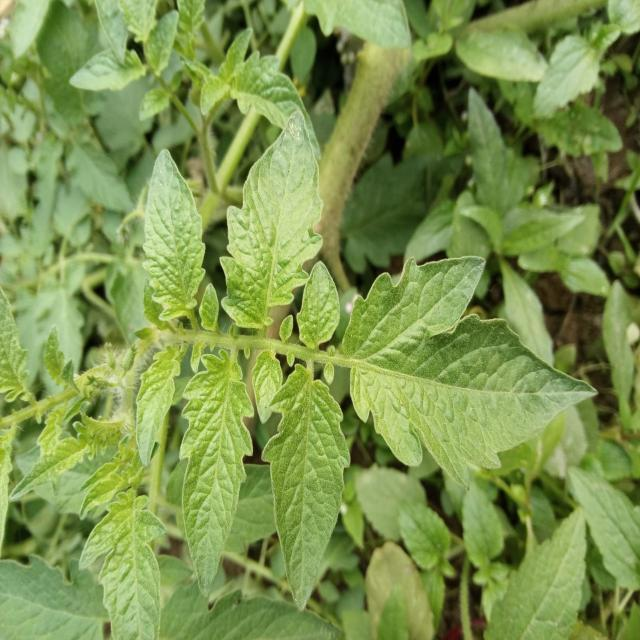Healthy: (299, 217, 593, 516), (238, 362, 364, 613), (212, 104, 339, 336), (172, 349, 257, 596), (80, 489, 165, 639), (143, 149, 205, 320), (124, 341, 185, 468), (290, 259, 352, 352)
